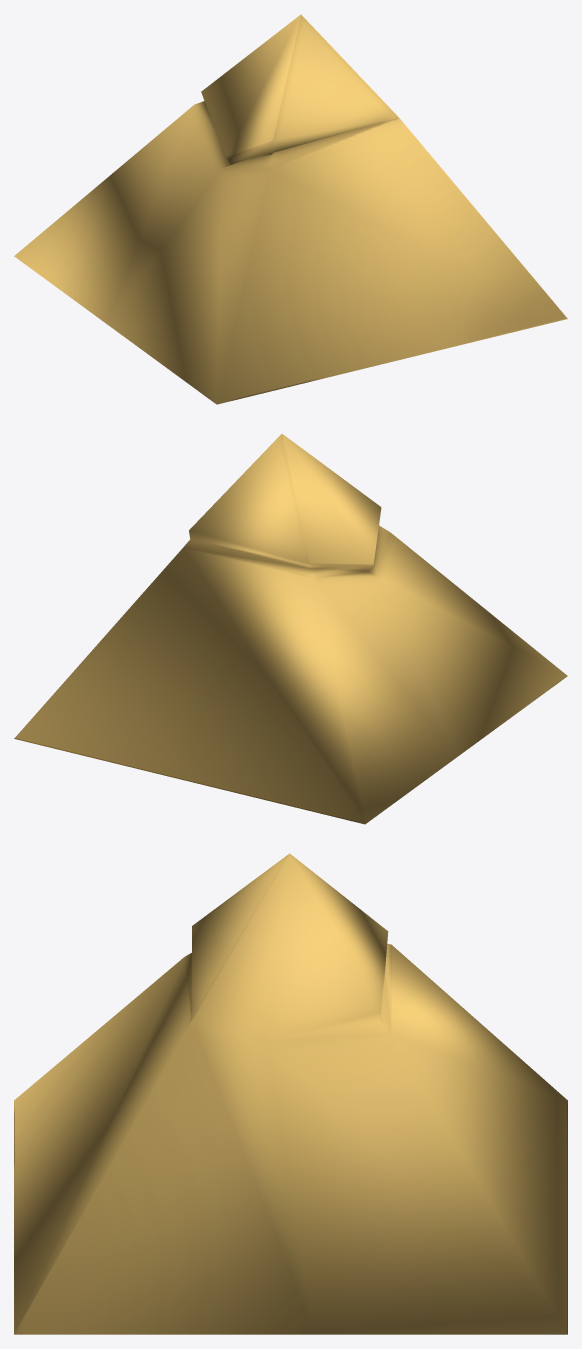
The picture shows the model from 3 angles, top to bottom: view 1: azimuth 30°, elevation 25°; view 2: azimuth 150°, elevation 25°; view 3: azimuth 270°, elevation 25°; orthographic projection. The views are drawn at different scales.
Visible parts, largest first — view 1: Cube.001; view 2: Cube.001; view 3: Cube.001.
Boxes of the visible parts, bbox=[...] form: Cube.001: bbox=[14, 14, 567, 404]; Cube.001: bbox=[14, 434, 567, 824]; Cube.001: bbox=[14, 853, 567, 1334].
Size of the model in its own units: 0.0471 by 0.0347 by 0.0471.
1 material, 1 textured.
